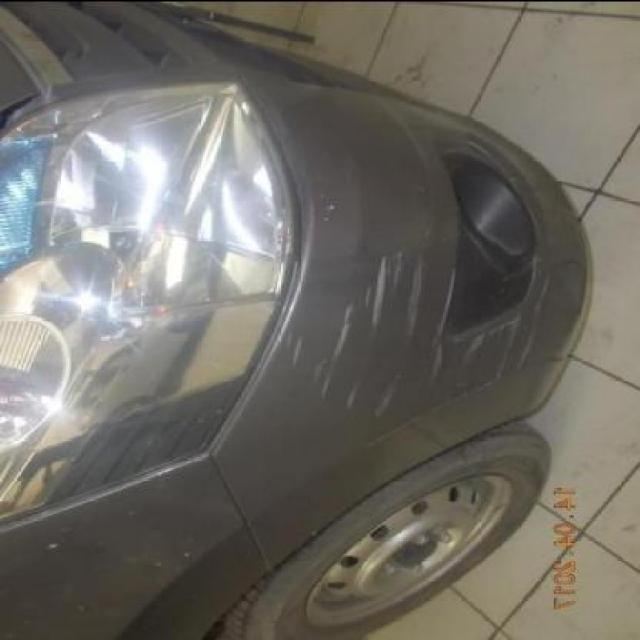damage: (365, 256, 549, 446), (282, 246, 419, 421)
